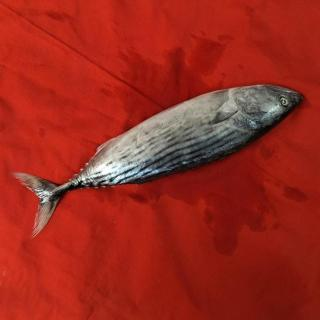Ikan: (23, 72, 310, 217)
